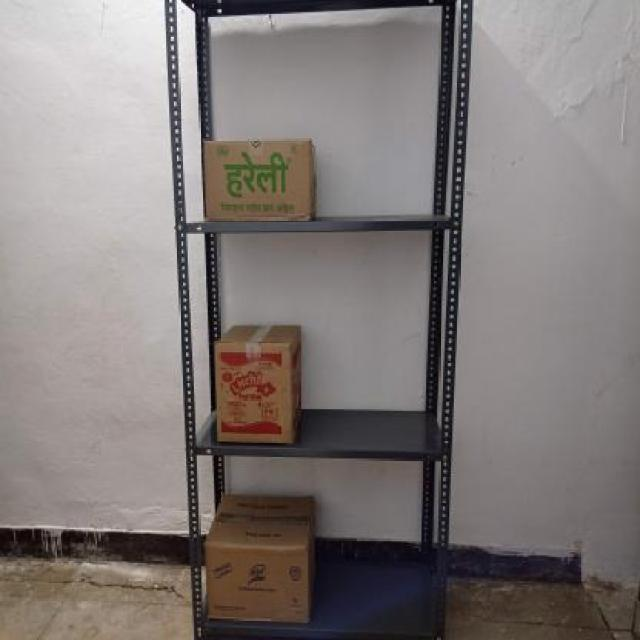box: (202, 139, 312, 221), (204, 542, 310, 624), (212, 342, 294, 444)
